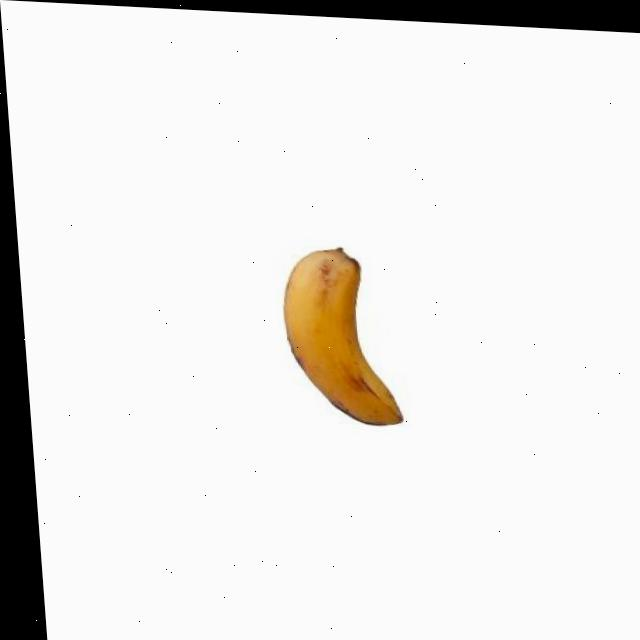banana: (278, 244, 401, 426)
